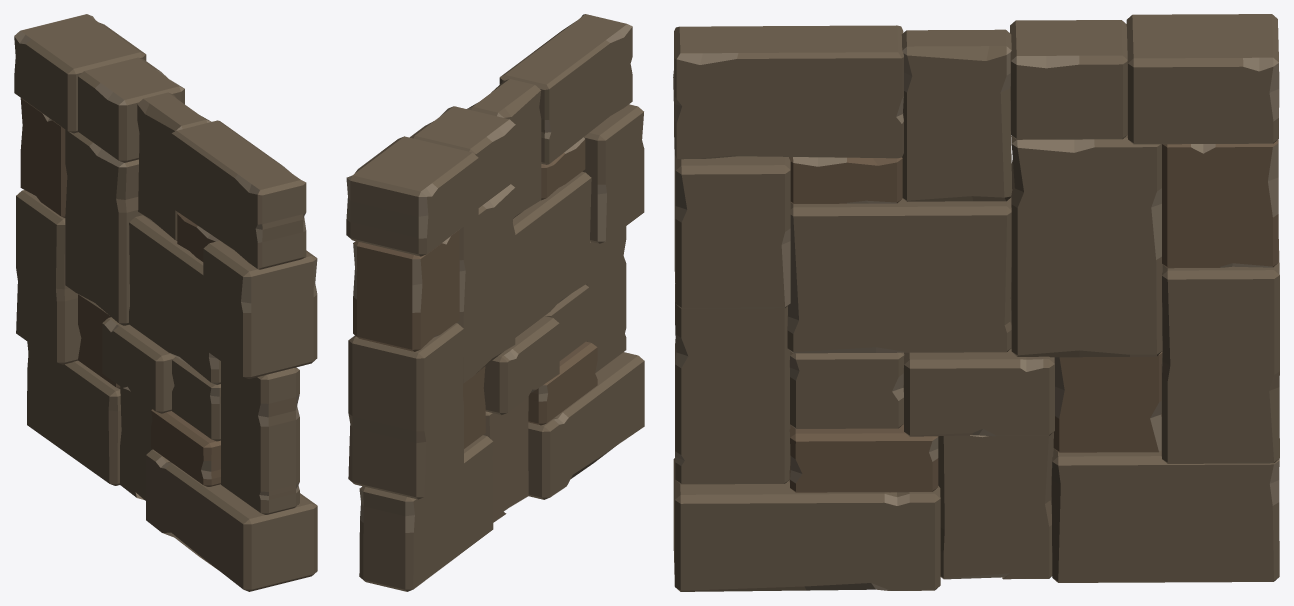
The model's file is entrada_wall_east_4_lev3.glb.
3 renders of one model, left to right at view 1: azimuth 30°, elevation 25°; view 2: azimuth 150°, elevation 25°; view 3: azimuth 270°, elevation 25°, orthographic. The views are drawn at different scales.
Parts seen in each view (by area): view 1: entrada_wall_east_4_lev3; view 2: entrada_wall_east_4_lev3; view 3: entrada_wall_east_4_lev3.
Boxes of the visible parts, x1,y1,x2,y2 form: entrada_wall_east_4_lev3: (14,14,317,591); entrada_wall_east_4_lev3: (346,14,644,591); entrada_wall_east_4_lev3: (673,14,1279,591).
Size of the model in its own units: 1.27 by 5.95 by 6.14.
